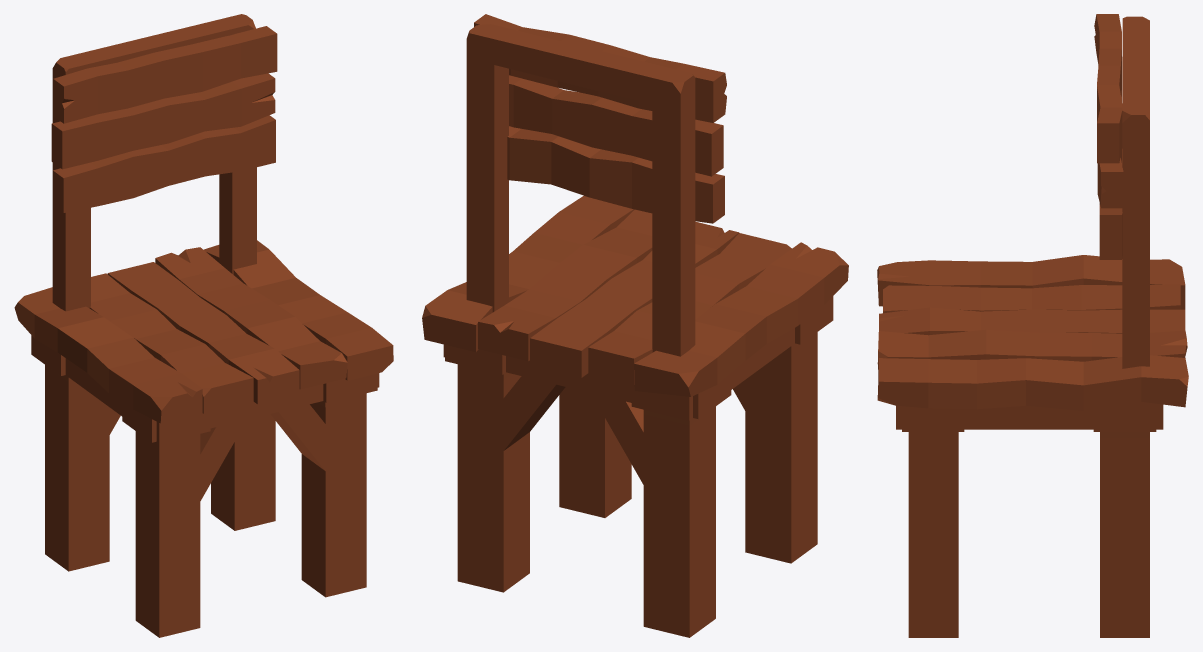
File: chair.fbx
3 renders of one model, left to right at view 1: azimuth 30°, elevation 25°; view 2: azimuth 150°, elevation 25°; view 3: azimuth 270°, elevation 25°, orthographic. The views are drawn at different scales.
Parts seen in each view (by area): view 1: Cube.002, Cube.004, Cube.001, Cube.006, Cube.007, Cube.008, Cube.005; view 2: Cube.002, Cube.004, Cube.001, Cube.005, Cube.007, Cube.008, Cube.006; view 3: Cube.004, Cube.002, Cube.001, Cube.008, Cube.005, Cube.006.
Part boxes in pixels (x1,y1,x2,y2): Cube.002: (45,14,366,637); Cube.004: (14,240,393,423); Cube.001: (51,26,277,212); Cube.006: (122,373,379,442); Cube.007: (65,358,210,443); Cube.008: (323,373,377,402); Cube.005: (31,335,65,375); Cube.002: (457,24,817,637); Cube.004: (422,196,848,396); Cube.001: (474,14,726,223); Cube.005: (443,344,731,418); Cube.007: (631,328,794,420); Cube.008: (445,345,505,374); Cube.006: (795,296,833,344); Cube.004: (877,255,1188,410); Cube.002: (908,16,1149,637); Cube.001: (1094,14,1123,259); Cube.008: (896,403,1163,429); Cube.005: (1093,402,1156,431); Cube.006: (902,406,964,431).
Size of the model in its own units: 113 by 221 by 120.
